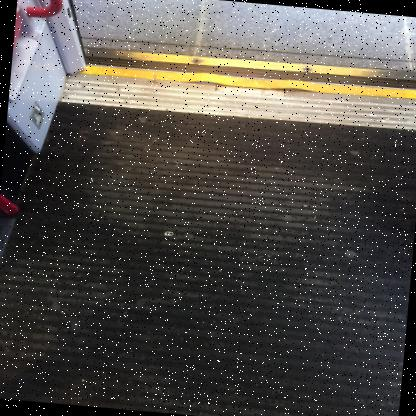Pop tab: (164, 232, 173, 236)
